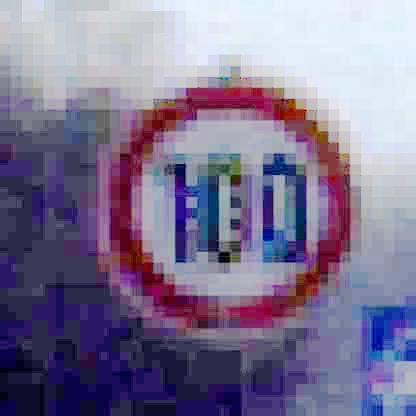Speed Limit -100-: (104, 61, 361, 336)
